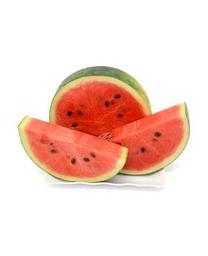watermelon: (18, 66, 192, 183)
